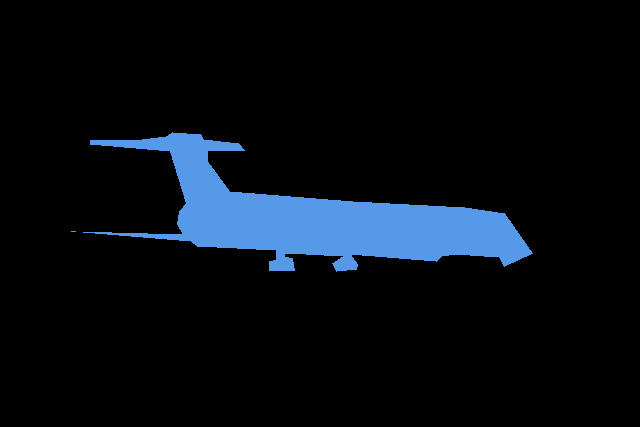Airplane: (71, 132, 533, 272)
